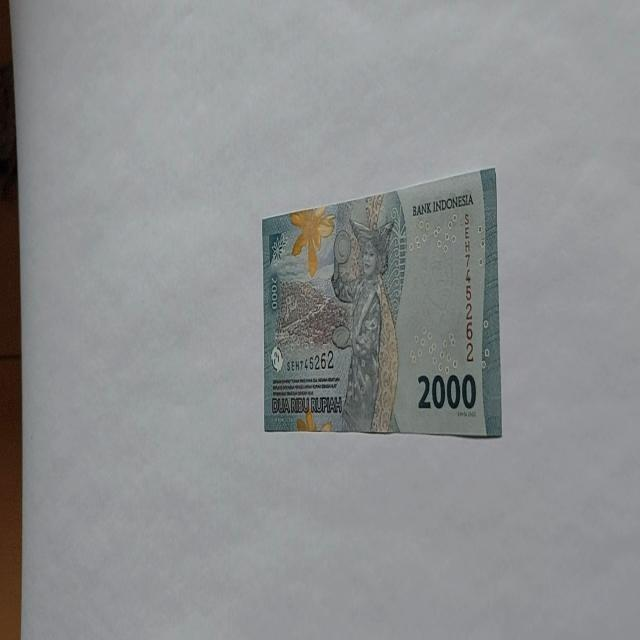dua ribu rupiah: (262, 165, 502, 438), (330, 213, 400, 433)
